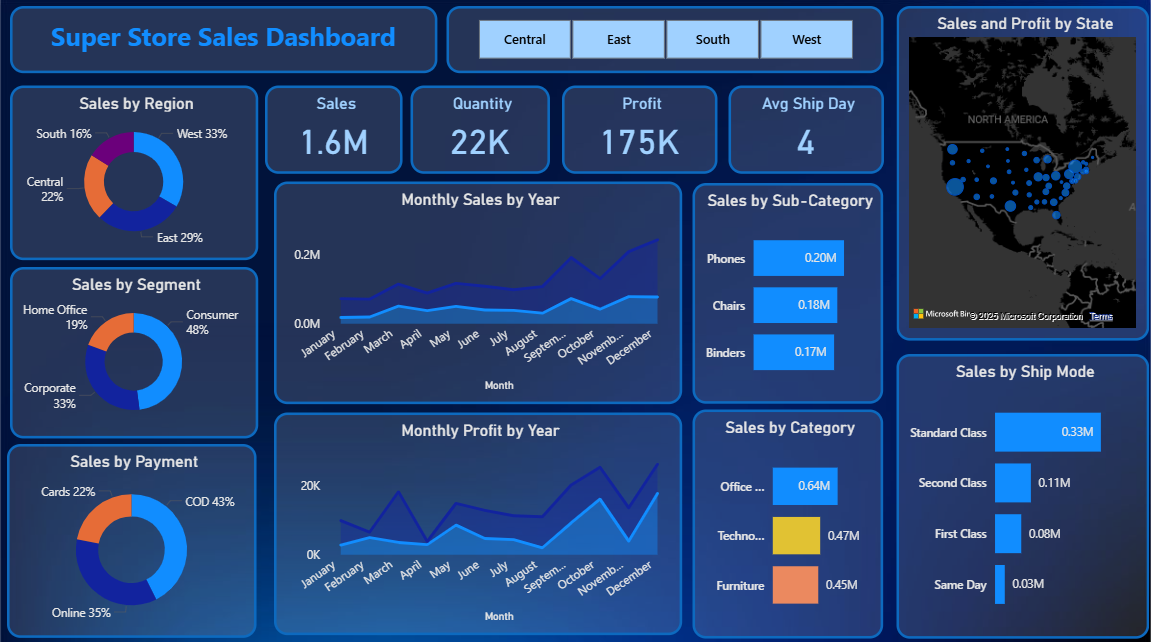

The page's visual inventory and layout, read from the dashboard file:
{"tool":"powerbi","page":{"name":"Page 1","canvas":[1280,720],"ordinal":0},"visuals":[{"type":"clusteredBarChart","title":"Sales by Category","fields":{"Category":["train 2(Sheet1).Category"],"Y":["Sum(train 2(Sheet1).Sales)"]},"box":[761.7,448.3,198.3,238.3],"z":0},{"type":"clusteredBarChart","title":"Sales by Sub-Category","fields":{"Category":["train 2(Sheet1).Sub-Category"],"Y":["Sum(train 2(Sheet1).Sales)"]},"box":[761.7,213.3,198.3,230],"z":1000},{"type":"clusteredBarChart","title":"Sales by Ship Mode","fields":{"Category":["train 2(Sheet1).Ship Mode"],"Y":["Sum(train 2(Sheet1).Sales)"]},"box":[973.3,390,263.3,296.7],"z":2000},{"type":"stackedAreaChart","title":"Monthly Sales by Year","fields":{"Y":["Sum(train 2(Sheet1).Sales)"],"Series":["train 2(Sheet1).Order Date.Variation.Date Hierarchy.Year"],"Category":["train 2(Sheet1).Order Date.Variation.Date Hierarchy.Month","train 2(Sheet1).Order Date.Variation.Date Hierarchy.Day"]},"box":[325,211.7,425,231.7],"z":3000},{"type":"stackedAreaChart","title":"Monthly Profit by Year","fields":{"Series":["train 2(Sheet1).Order Date.Variation.Date Hierarchy.Year"],"Category":["train 2(Sheet1).Order Date.Variation.Date Hierarchy.Month","train 2(Sheet1).Order Date.Variation.Date Hierarchy.Day"],"Y":["Sum(train 2(Sheet1).Profit)"]},"box":[325,451.7,425,231.7],"z":4000},{"type":"map","title":"Sales and Profit by State","fields":{"Category":["train 2(Sheet1).State"],"Size":["Sum(train 2(Sheet1).Sales)"]},"box":[973.3,28.3,263.3,348.3],"z":5000},{"type":"donutChart","title":"Sales by Segment","fields":{"Category":["train 2(Sheet1).Segment"],"Y":["Sum(train 2(Sheet1).Sales)"]},"box":[50,300,258.3,178.3],"z":6000},{"type":"donutChart","title":"Sales by Payment","fields":{"Category":["train 2(Sheet1).Payment Mode"],"Y":["Sum(train 2(Sheet1).Sales)"]},"box":[46.7,485,260,201.7],"z":7000},{"type":"slicer","fields":{"Values":["train 2(Sheet1).Region"]},"box":[505,28.3,455,70],"z":8000},{"type":"textbox","box":[50,28.3,445,70],"z":9000},{"type":"card","title":"Sales","fields":{"Values":["Sum(train 2(Sheet1).Sales)"]},"box":[315,111.7,143.3,91.7],"z":10000},{"type":"card","title":"Quantity","fields":{"Values":["Sum(train 2(Sheet1).Quantity)"]},"box":[466.7,111.7,145,91.7],"z":11000},{"type":"card","title":"Profit","fields":{"Values":["Sum(train 2(Sheet1).Profit)"]},"box":[625,111.7,161.7,91.7],"z":12000},{"type":"card","title":"Avg Ship Day","fields":{"Values":["Avg(train 2(Sheet1).AvgDelivery)"]},"box":[798.3,111.7,161.7,91.7],"z":13000},{"type":"donutChart","title":"Sales by Region","fields":{"Category":["train 2(Sheet1).Region"],"Y":["Sum(train 2(Sheet1).Sales)"]},"box":[50,111.7,258.3,181.7],"z":14000}]}

Visuals, with their boxes in screenshot pixels (x1, y1, x2, y2), scaled from the page's 1280x720 canvas onto the 1153x642 screenshot:
"Sales by Category" clusteredBarChart: [686, 400, 865, 612]
"Sales by Sub-Category" clusteredBarChart: [686, 190, 865, 395]
"Sales by Ship Mode" clusteredBarChart: [877, 348, 1114, 612]
"Monthly Sales by Year" stackedAreaChart: [293, 189, 676, 395]
"Monthly Profit by Year" stackedAreaChart: [293, 403, 676, 609]
"Sales and Profit by State" map: [877, 25, 1114, 336]
"Sales by Segment" donutChart: [45, 268, 278, 426]
"Sales by Payment" donutChart: [42, 432, 276, 612]
slicer - train 2(Sheet1).Region: [455, 25, 865, 88]
textbox: [45, 25, 446, 88]
"Sales" card: [284, 100, 413, 181]
"Quantity" card: [420, 100, 551, 181]
"Profit" card: [563, 100, 709, 181]
"Avg Ship Day" card: [719, 100, 865, 181]
"Sales by Region" donutChart: [45, 100, 278, 262]
